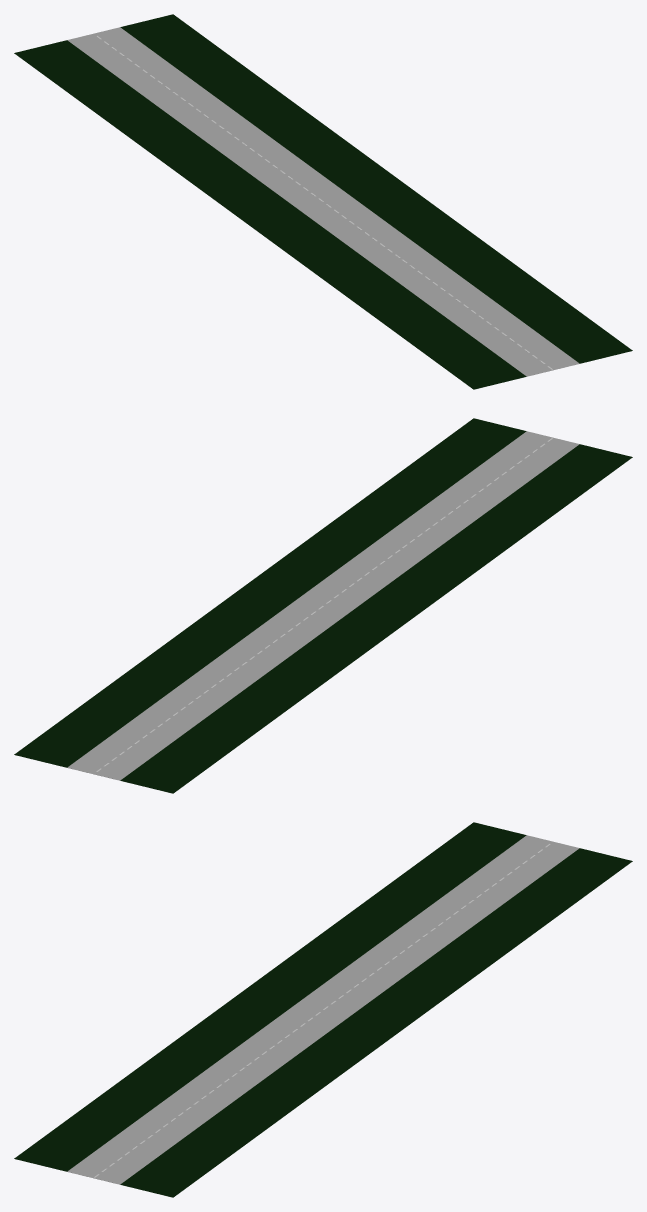
File: Road.obj
3 views of the same model, one above another, from view 1: azimuth 30°, elevation 25°; view 2: azimuth 150°, elevation 25°; view 3: azimuth 330°, elevation 25° (orthographic).
Parts seen in each view (by area): view 1: Cube.023_Cube.032, Cube.016_Cube.025, Cube.006_Cube.119, Cube.024_Cube.033, Cube.015_Cube.024, Cube.007_Cube.120, Cube.000_Cube.092, Cube.004_Cube.117, Cube.001_Cube.094; view 2: Cube.006_Cube.119, Cube.016_Cube.025, Cube.023_Cube.032, Cube.007_Cube.120, Cube.015_Cube.024, Cube.024_Cube.033, Cube.004_Cube.117, Cube.000_Cube.092, Cube.001_Cube.094; view 3: Cube.024_Cube.033, Cube.015_Cube.024, Cube.007_Cube.120, Cube.023_Cube.032, Cube.016_Cube.025, Cube.006_Cube.119, Cube.000_Cube.092, Cube.004_Cube.117, Cube.001_Cube.094.
Boxes of the visible parts, left/top/right/bottom form: Cube.023_Cube.032: left=320, top=264, right=526, bottom=389; Cube.016_Cube.025: left=167, top=152, right=373, bottom=277; Cube.006_Cube.119: left=14, top=40, right=219, bottom=165; Cube.024_Cube.033: left=427, top=238, right=632, bottom=363; Cube.015_Cube.024: left=274, top=126, right=479, bottom=251; Cube.007_Cube.120: left=120, top=14, right=325, bottom=139; Cube.000_Cube.092: left=374, top=251, right=579, bottom=376; Cube.004_Cube.117: left=67, top=27, right=272, bottom=152; Cube.001_Cube.094: left=221, top=139, right=426, bottom=264; Cube.006_Cube.119: left=120, top=668, right=326, bottom=793; Cube.016_Cube.025: left=273, top=556, right=479, bottom=681; Cube.023_Cube.032: left=427, top=444, right=632, bottom=569; Cube.007_Cube.120: left=14, top=642, right=219, bottom=767; Cube.015_Cube.024: left=167, top=530, right=372, bottom=655; Cube.024_Cube.033: left=321, top=418, right=526, bottom=543; Cube.004_Cube.117: left=67, top=655, right=272, bottom=780; Cube.000_Cube.092: left=374, top=431, right=579, bottom=556; Cube.001_Cube.094: left=220, top=543, right=425, bottom=668; Cube.024_Cube.033: left=120, top=1072, right=326, bottom=1197; Cube.015_Cube.024: left=273, top=960, right=479, bottom=1085; Cube.007_Cube.120: left=427, top=848, right=632, bottom=973; Cube.023_Cube.032: left=14, top=1046, right=219, bottom=1171; Cube.016_Cube.025: left=167, top=934, right=372, bottom=1059; Cube.006_Cube.119: left=321, top=822, right=526, bottom=947; Cube.000_Cube.092: left=67, top=1059, right=272, bottom=1184; Cube.004_Cube.117: left=374, top=835, right=579, bottom=960; Cube.001_Cube.094: left=220, top=947, right=425, bottom=1072.
Size of the model in its own units: 12 by 0.012 by 60.
